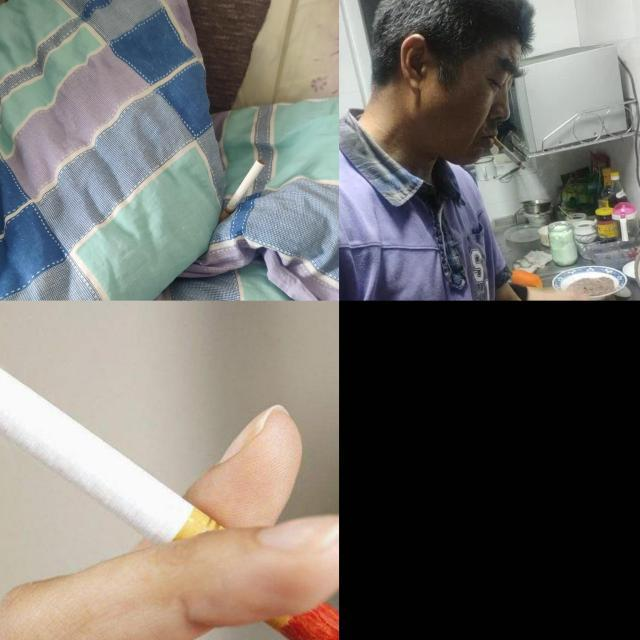smoking: (0, 334, 339, 640), (214, 158, 266, 229), (492, 135, 524, 167)
